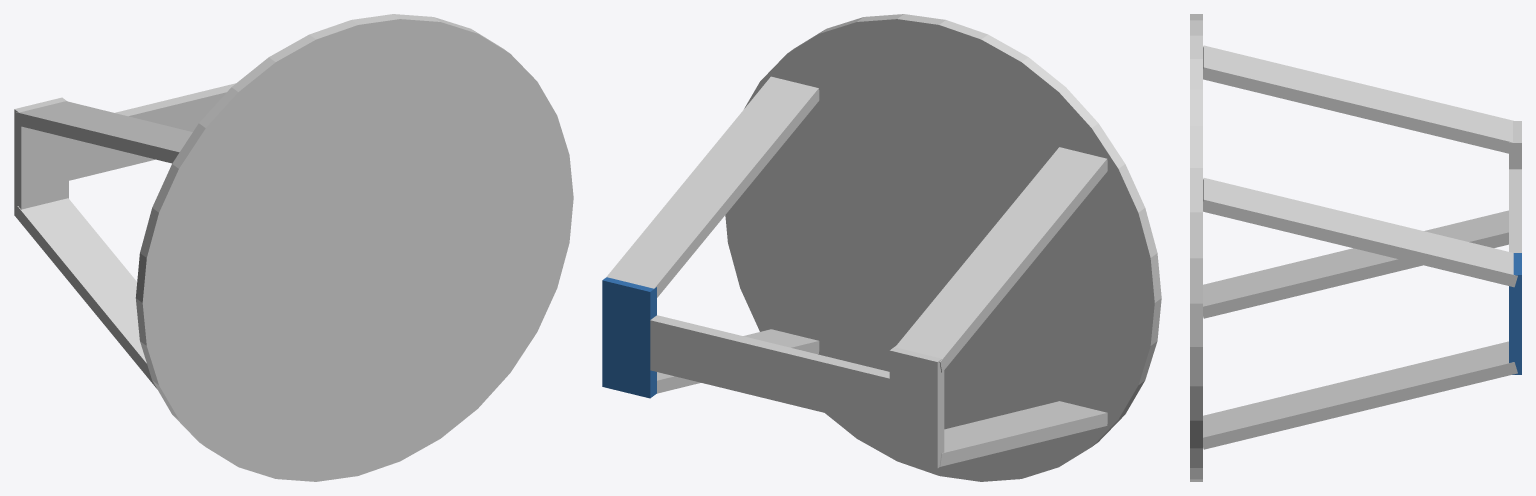
Rendered from static_base_turbine.glb.
The picture shows the model from 3 angles, left to right: view 1: azimuth 30°, elevation 25°; view 2: azimuth 150°, elevation 25°; view 3: azimuth 270°, elevation 25°; orthographic projection. The views are drawn at different scales.
Visible parts, largest first — view 1: base plate, support4, support1, perp separator2, separator; view 2: base plate, support1, support2, separator, perp separator2, perp separator, support4, support3; view 3: support2, support3, support1, support4, base plate, perp separator, separator, perp separator2.
Boxes of the visible parts, x1=… form: base plate: x1=135, y1=14, x2=573, y2=481; support4: x1=15, y1=198, x2=156, y2=388; support1: x1=15, y1=101, x2=192, y2=163; perp separator2: x1=14, y1=97, x2=68, y2=216; separator: x1=69, y1=83, x2=235, y2=180; base plate: x1=725, y1=14, x2=1161, y2=481; support1: x1=895, y1=147, x2=1107, y2=372; support2: x1=606, y1=76, x2=819, y2=297; separator: x1=650, y1=315, x2=889, y2=428; perp separator2: x1=889, y1=346, x2=944, y2=468; perp separator: x1=602, y1=277, x2=656, y2=398; support4: x1=939, y1=401, x2=1107, y2=466; support3: x1=657, y1=329, x2=819, y2=393; support2: x1=1203, y1=178, x2=1517, y2=287; support3: x1=1203, y1=341, x2=1517, y2=449; support1: x1=1203, y1=45, x2=1513, y2=153; support4: x1=1203, y1=210, x2=1508, y2=318; base plate: x1=1190, y1=14, x2=1202, y2=481; perp separator: x1=1509, y1=253, x2=1521, y2=374; separator: x1=1509, y1=169, x2=1521, y2=252; perp separator2: x1=1509, y1=121, x2=1521, y2=169.
Bounding box in the file's own units: 0.4572 × 0.4572 × 0.3238.
